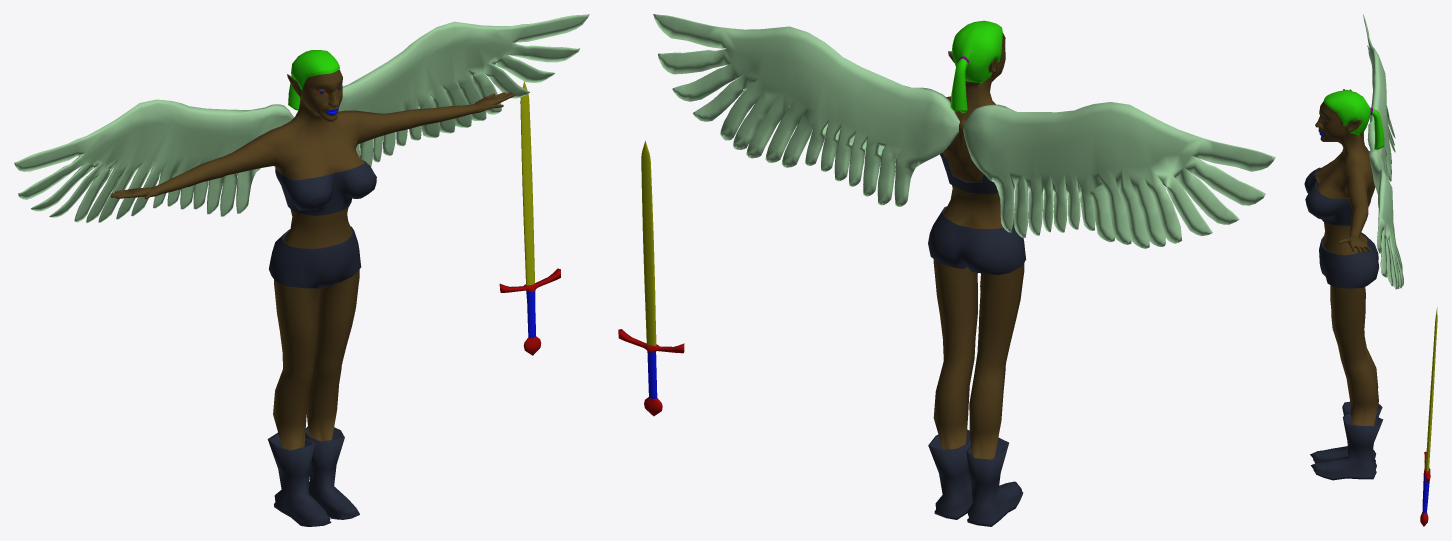
The model's file is valkyrie_use for rig.FBX.
3 renders of one model, left to right at view 1: azimuth 30°, elevation 25°; view 2: azimuth 150°, elevation 25°; view 3: azimuth 270°, elevation 25°, orthographic. The views are drawn at different scales.
Parts seen in each view (by area): view 1: best low poly valk, wings, sword; view 2: wings, best low poly valk, sword; view 3: best low poly valk, wings, sword.
Part boxes in pixels (bbox=[...]): best low poly valk: bbox=[110, 50, 515, 526]; wings: bbox=[14, 14, 589, 223]; sword: bbox=[499, 81, 560, 355]; wings: bbox=[653, 14, 1275, 248]; best low poly valk: bbox=[928, 20, 1163, 526]; sword: bbox=[618, 140, 684, 416]; best low poly valk: bbox=[1304, 89, 1384, 480]; wings: bbox=[1363, 14, 1403, 289]; sword: bbox=[1420, 307, 1437, 526].
Size of the model in its own units: 2.66 by 2 by 0.6383.
